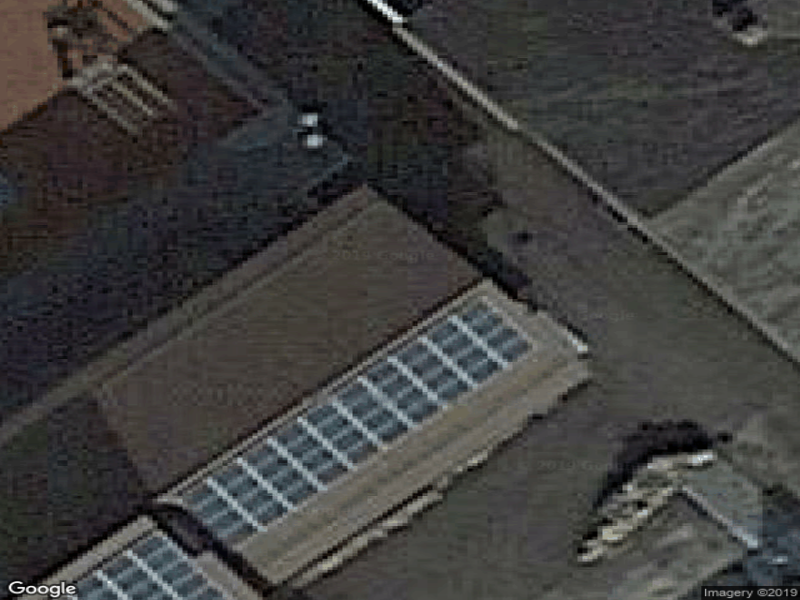pv: (195, 295, 538, 543), (46, 534, 224, 600)
